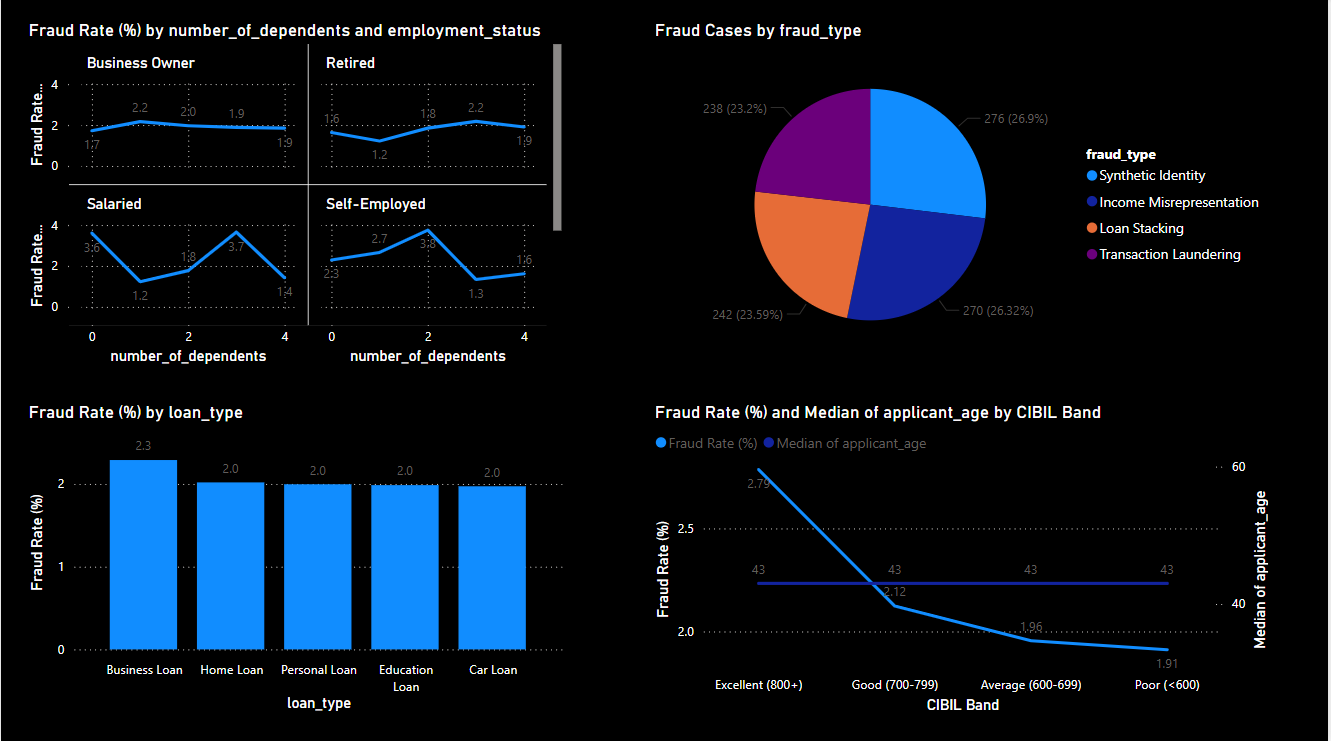

What the dashboard file says about the page in this screenshot:
{"tool":"powerbi","page":{"name":"KEY FRAUD METRICS","canvas":[1280,720],"ordinal":1},"visuals":[{"type":"lineChart","fields":{"Category":["loan_fraud loan_applications.number_of_dependents"],"Y":["loan_fraud loan_applications.Overall Fraud Rate (%)"],"Rows":["loan_fraud loan_applications.employment_status"]},"box":[22.3,20.8,524.9,339],"z":0},{"type":"lineChart","fields":{"Category":["loan_fraud loan_applications.CIBIL Band"],"Y":["loan_fraud loan_applications.Fraud Rate (%)"],"Y2":["Median(loan_fraud loan_applications.applicant_age)"]},"box":[626.1,389.7,602,305.2],"z":1000},{"type":"clusteredColumnChart","fields":{"Category":["loan_fraud loan_applications.loan_type"],"Y":["loan_fraud loan_applications.Fraud Rate (%)"]},"box":[21.7,389.7,526,304],"z":1001},{"type":"pieChart","fields":{"Category":["loan_fraud loan_applications.fraud_type"],"Y":["loan_fraud loan_applications.Fraud Cases"]},"box":[626.1,20.5,602,339],"z":1002}]}

Visuals, with their boxes in screenshot pixels (x1, y1, x2, y2), scaled from the page's 1280x720 canvas onto the 1331x741 screenshot:
lineChart - loan_fraud loan_applications.number_of_dependents x loan_fraud loan_applications.Overall Fraud Rate (%): [x1=23, y1=21, x2=569, y2=370]
lineChart - loan_fraud loan_applications.CIBIL Band x loan_fraud loan_applications.Fraud Rate (%): [x1=651, y1=401, x2=1277, y2=715]
clusteredColumnChart - loan_fraud loan_applications.loan_type x loan_fraud loan_applications.Fraud Rate (%): [x1=23, y1=401, x2=570, y2=714]
pieChart - loan_fraud loan_applications.fraud_type x loan_fraud loan_applications.Fraud Cases: [x1=651, y1=21, x2=1277, y2=370]
